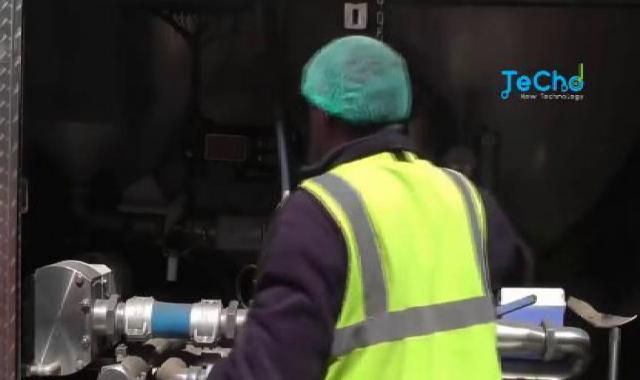hairnet: (294, 32, 422, 128)
